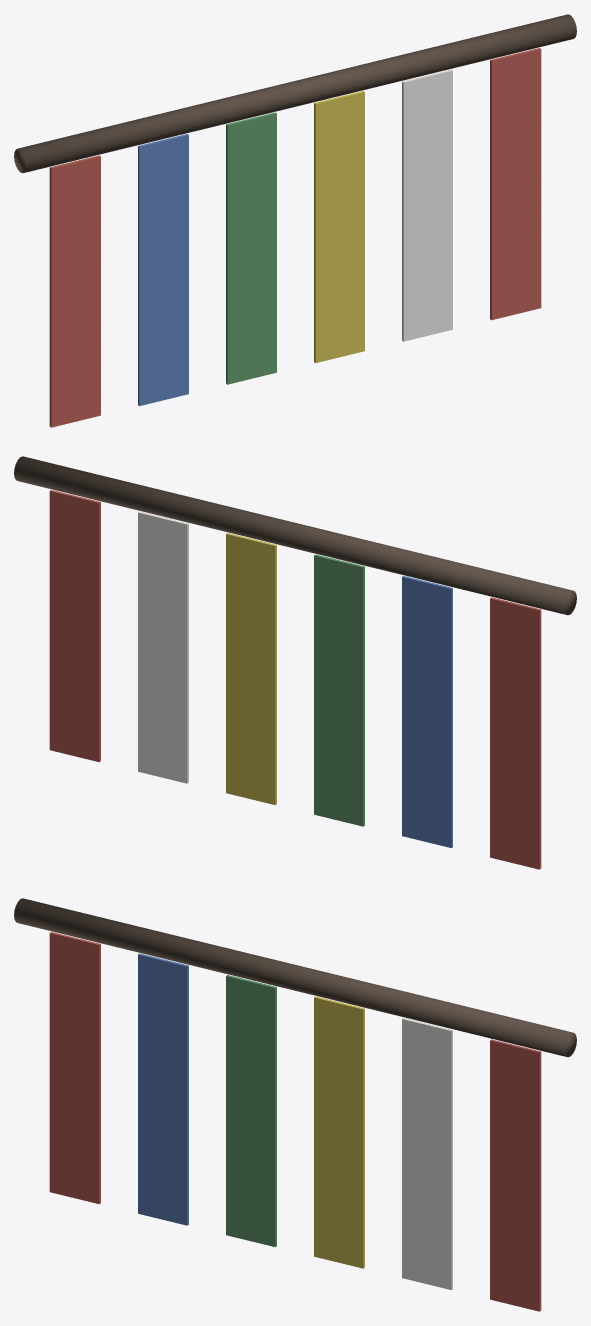
File: prop_tanzaku_b.glb
3 renders of one model, top to bottom at view 1: azimuth 30°, elevation 25°; view 2: azimuth 150°, elevation 25°; view 3: azimuth 330°, elevation 25°, orthographic.
Parts seen in each view (by area): view 1: tanzaku_b; view 2: tanzaku_b; view 3: tanzaku_b.
Boxes of the visible parts, x1,y1,x2,y2 form: tanzaku_b: [14, 14, 576, 427]; tanzaku_b: [14, 456, 576, 869]; tanzaku_b: [14, 898, 576, 1311].
Bounding box in the file's own units: 2 × 0.99 × 0.08.
